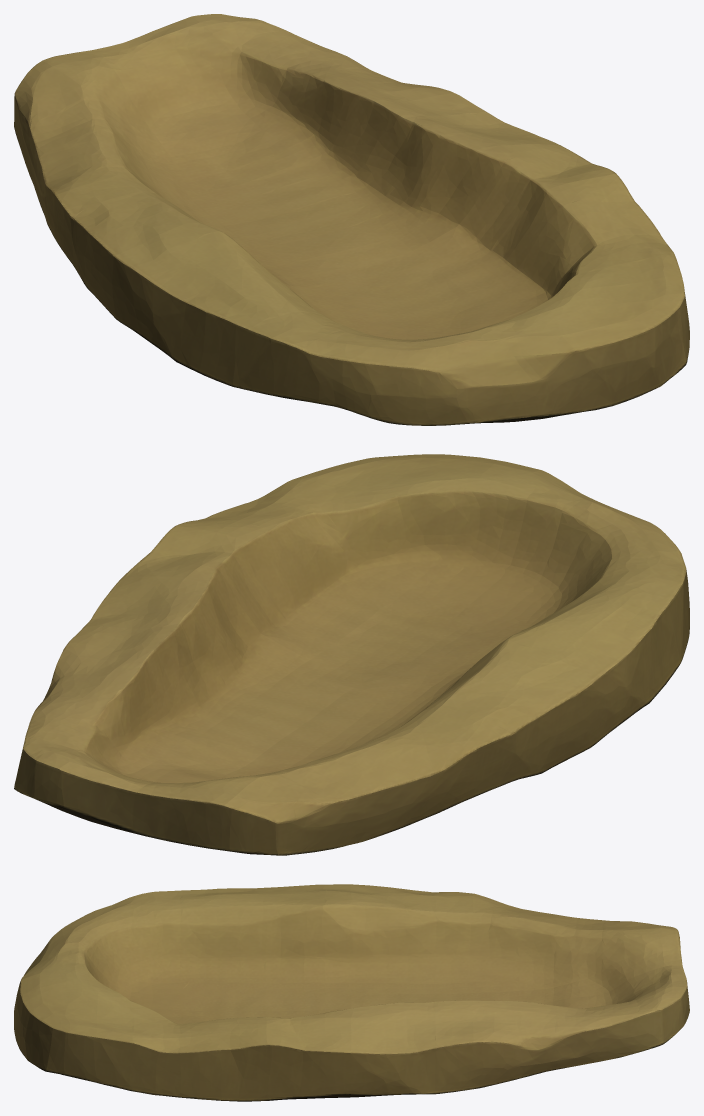
3 views of the same model, one above another, from view 1: azimuth 30°, elevation 25°; view 2: azimuth 150°, elevation 25°; view 3: azimuth 270°, elevation 25° (orthographic). The views are drawn at different scales.
Parts seen in each view (by area): view 1: world; view 2: world; view 3: world.
Part boxes in pixels (x1,y1,x2,y2): world: [14, 14, 689, 425]; world: [14, 454, 689, 855]; world: [14, 884, 689, 1101].
Size of the model in its own units: 3.04 by 0.5845 by 5.
1 material, 1 textured.
